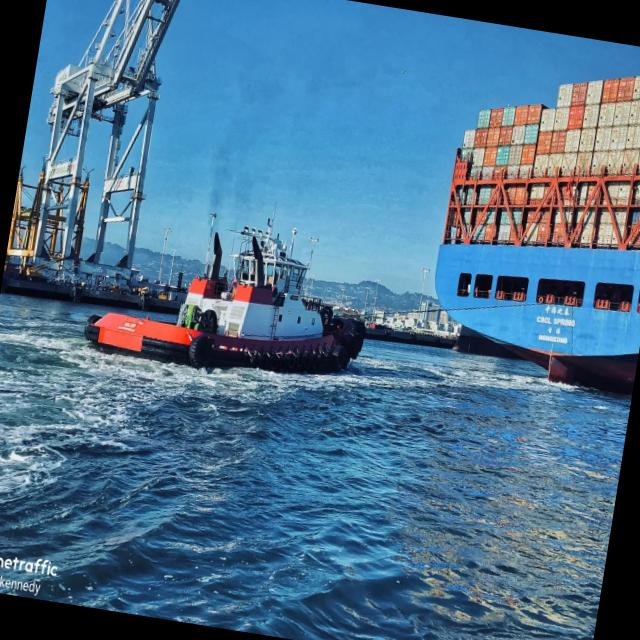Tug: (85, 230, 366, 373)
